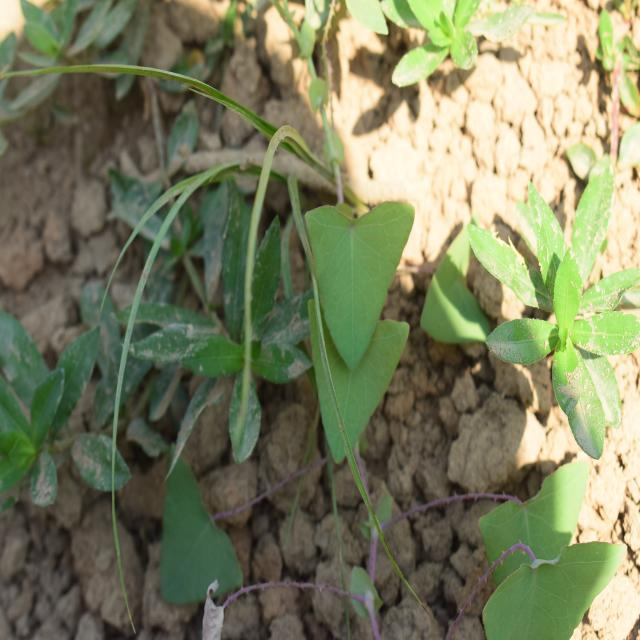Asiatic_Smartweed: (300, 178, 426, 454), (454, 450, 620, 638)
